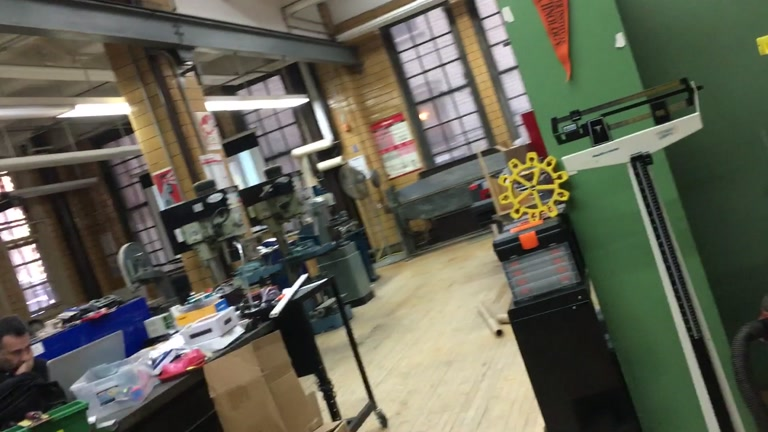gear: (497, 151, 571, 225)
